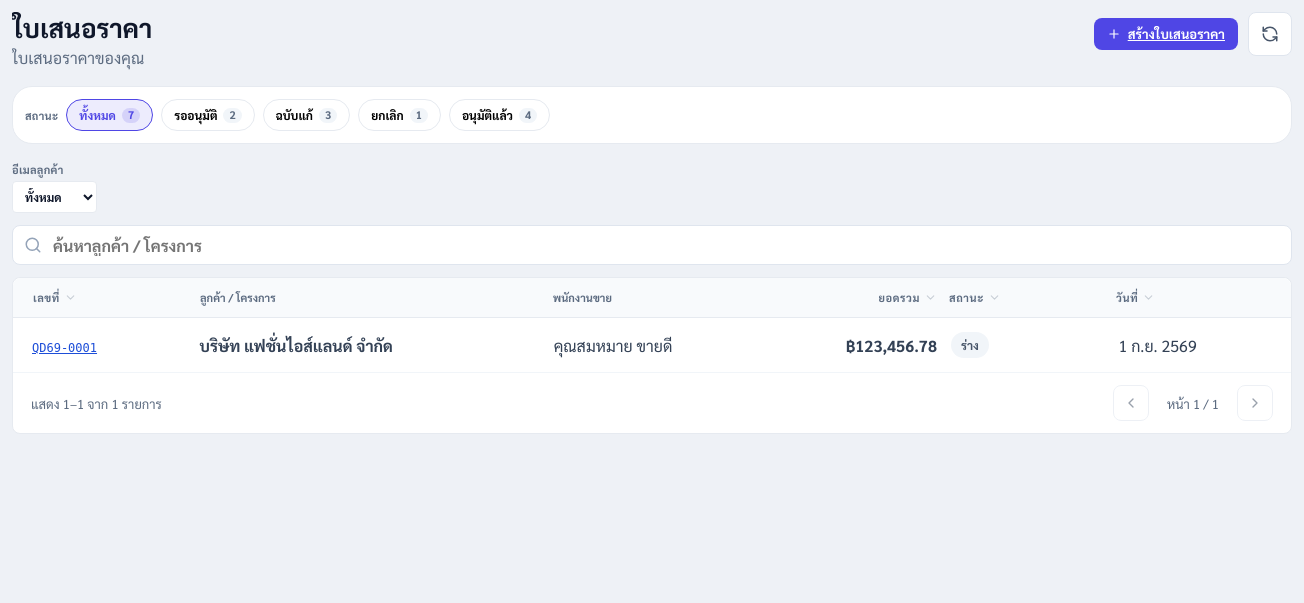
Test case: QuotationListPage › keeps the column header row for a plain sales user whose email filter empties the list
The width and height of the screenshot is (1304, 603).
Expected: the text "QD69-0001" is shown, [32,341,97,355]
Select "ไม่มีอีเมล" in the dropdown named "กรองตามอีเมลลูกค้า" at (54, 197), box [12,181,97,213]
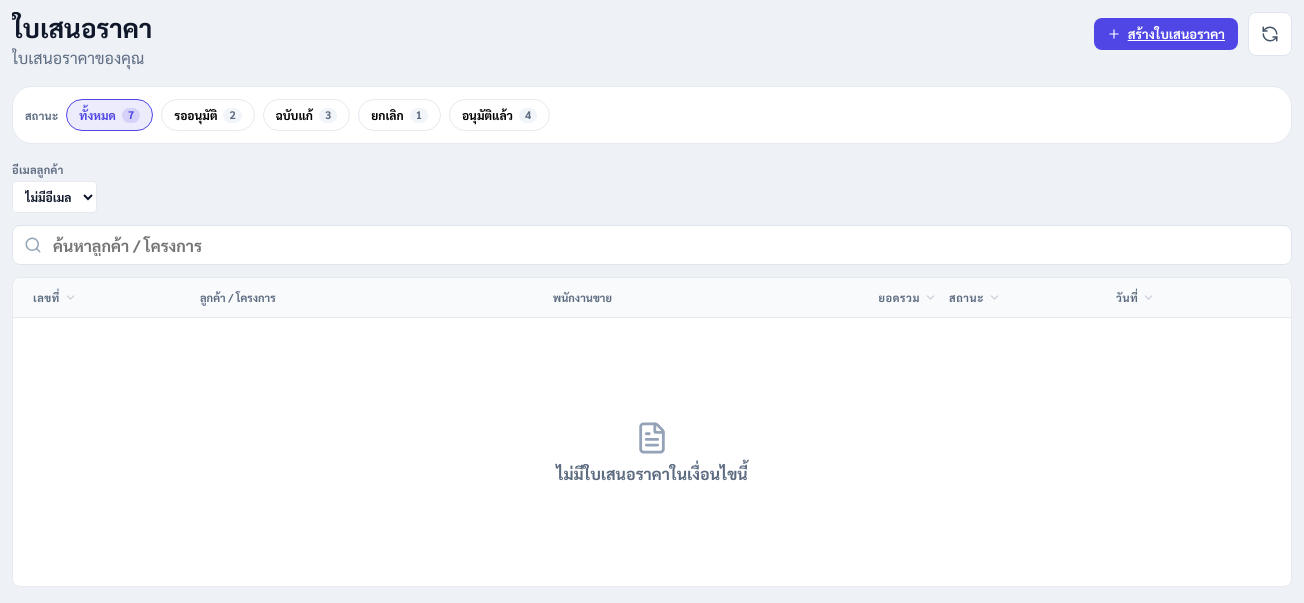
Expected: the row with class "table-head" is shown, [13,278,1291,318]
Result: the link "QD69-0001" is gone
Result: the text "ไม่มีใบเสนอราคาในเงื่อนไขนี้" is shown at [556,463,748,484]
